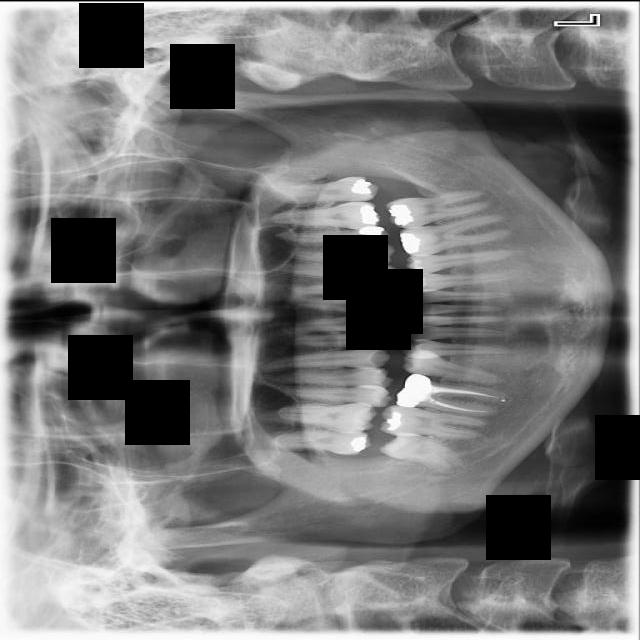52: (392, 365, 444, 419), (384, 191, 431, 235), (397, 220, 445, 260), (378, 401, 426, 440), (342, 200, 381, 230), (339, 174, 380, 202), (333, 430, 372, 455), (406, 271, 446, 293), (352, 224, 389, 247)
73: (427, 381, 511, 421), (610, 20, 618, 24)
BioHorizons Implant: (263, 174, 379, 206)
Blue Sky Bio Implant: (383, 188, 489, 231)
Caries: (266, 427, 373, 455)
Implant: (378, 402, 488, 445)
Keystone Dental Implant: (377, 423, 469, 480)
